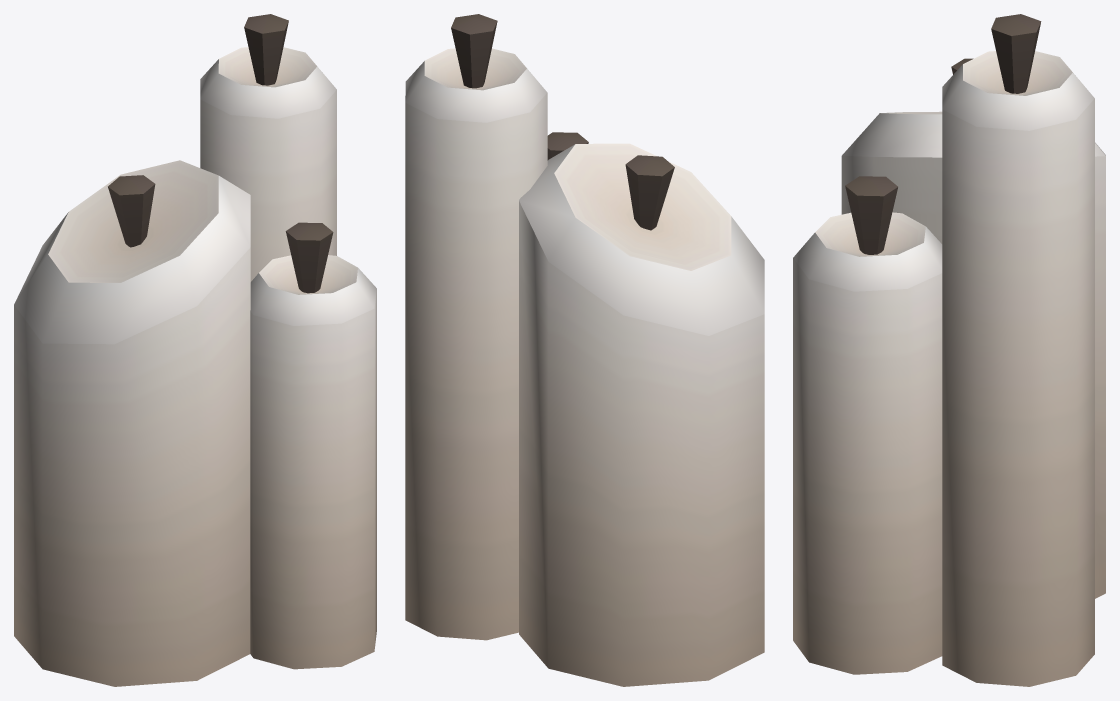
The model's file is candle_triple.glb.
3 renders of one model, left to right at view 1: azimuth 30°, elevation 25°; view 2: azimuth 150°, elevation 25°; view 3: azimuth 270°, elevation 25°, orthographic. The views are drawn at different scales.
Visible parts, largest first — view 1: candle_triple; view 2: candle_triple; view 3: candle_triple.
Boxes of the visible parts, bbox=[...] form: candle_triple: bbox=[14, 14, 376, 686]; candle_triple: bbox=[405, 14, 764, 686]; candle_triple: bbox=[793, 14, 1105, 686].
Bounding box in the file's own units: 0.5011 × 0.873 × 0.39.
1 material, 1 textured.
